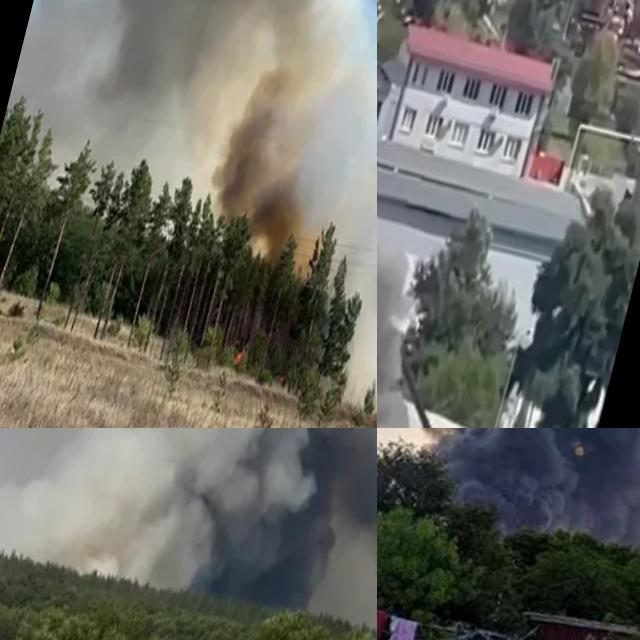smoke: (47, 0, 377, 280), (136, 428, 377, 640), (402, 428, 640, 576)
